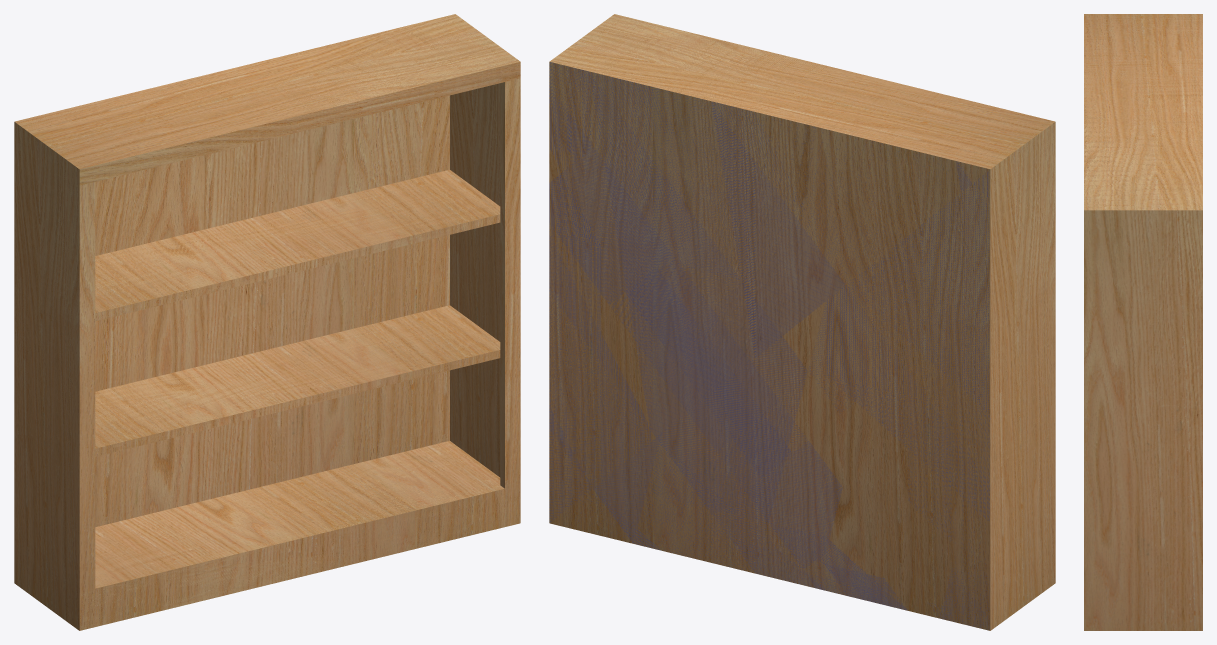
The model's file is bookshelf.dae.
The picture shows the model from 3 angles, left to right: view 1: azimuth 30°, elevation 25°; view 2: azimuth 150°, elevation 25°; view 3: azimuth 270°, elevation 25°; orthographic projection. The views are drawn at different scales.
Visible parts, largest first — view 1: SketchUp (×5); view 2: SketchUp (×3); view 3: SketchUp (×2).
Boxes of the visible parts, <box> form: SketchUp (×5): <box>14,14,520,630</box>; SketchUp (×3): <box>549,14,1055,630</box>; SketchUp (×2): <box>1084,14,1202,630</box>.
Size of the model in its own units: 42 by 10.75 by 42.
Materials: 3 (2 with a texture image).
